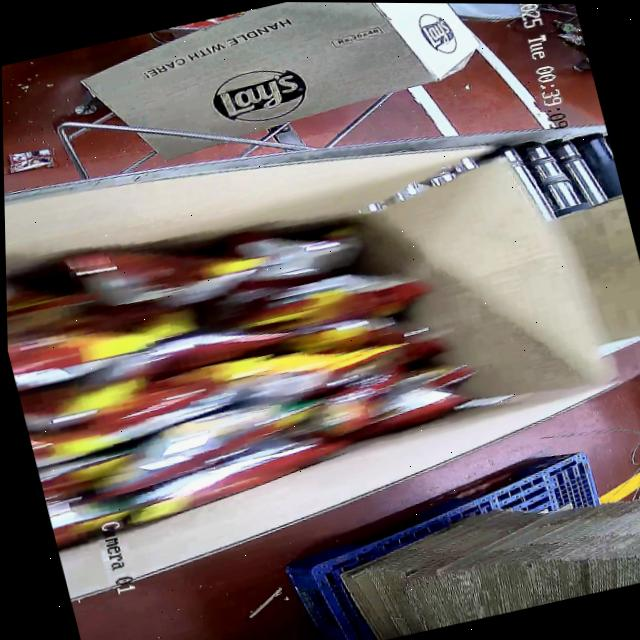MASALA: (4, 166, 518, 553)
